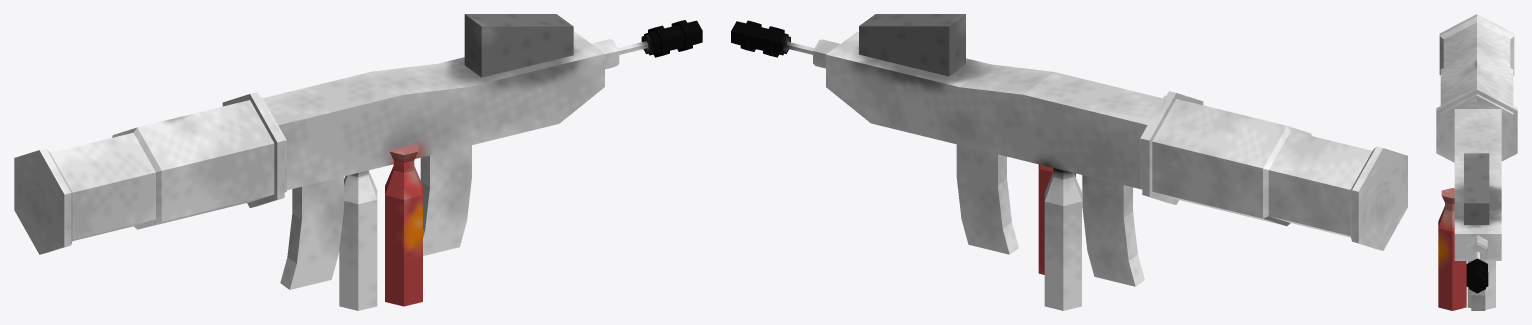
The model's file is WP_Flamethrower.fbx.
3 renders of one model, left to right at view 1: azimuth 30°, elevation 25°; view 2: azimuth 150°, elevation 25°; view 3: azimuth 270°, elevation 25°, orthographic. The views are drawn at different scales.
Parts seen in each view (by area): view 1: WP_Flamethrower; view 2: WP_Flamethrower; view 3: WP_Flamethrower.
Boxes of the visible parts, box(x1,y1,x2,y2) form: WP_Flamethrower: box(14, 14, 702, 310); WP_Flamethrower: box(731, 14, 1407, 310); WP_Flamethrower: box(1436, 14, 1517, 310).
Size of the model in its own units: 22.29 by 8.32 by 3.21.
Materials: 1 (1 with a texture image).
